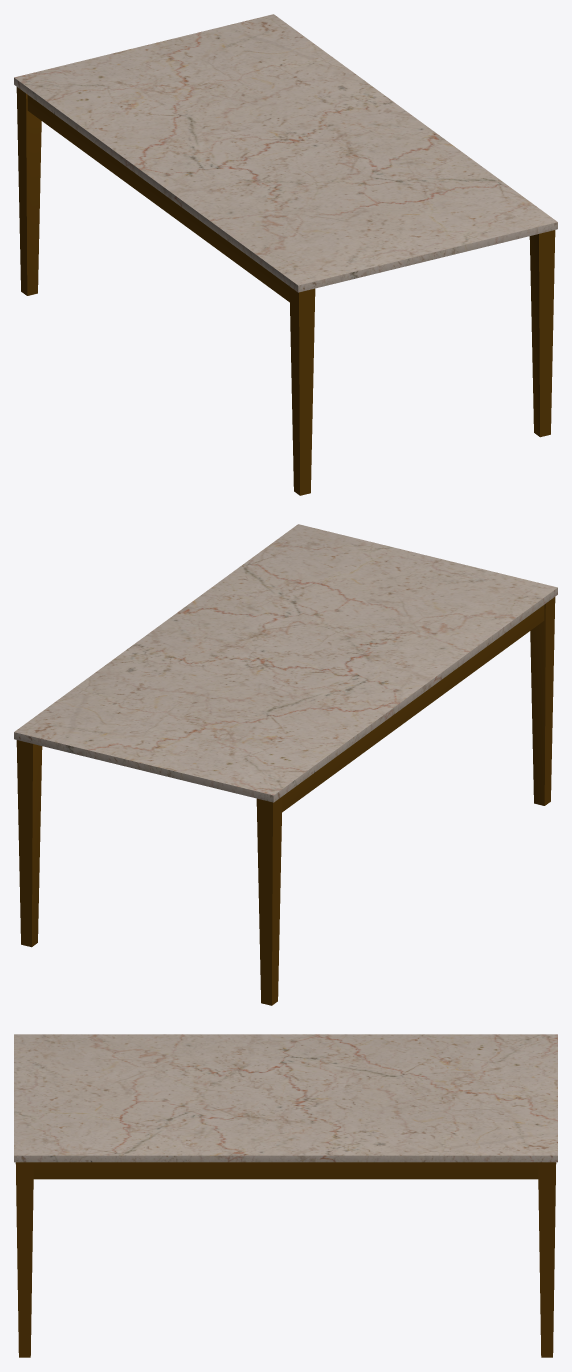
Rendered from table.fbx.
The picture shows the model from 3 angles, top to bottom: view 1: azimuth 30°, elevation 25°; view 2: azimuth 150°, elevation 25°; view 3: azimuth 270°, elevation 25°; orthographic projection. The views are drawn at different scales.
Visible parts, largest first — view 1: table; view 2: table; view 3: table.
Part boxes in pixels (<box>): table: <box>14,14,557,495</box>; table: <box>14,524,557,1005</box>; table: <box>14,1034,557,1357</box>.
Bounding box in the file's own units: 30.63 × 58.04 × 24.04.
2 materials, 1 textured.
